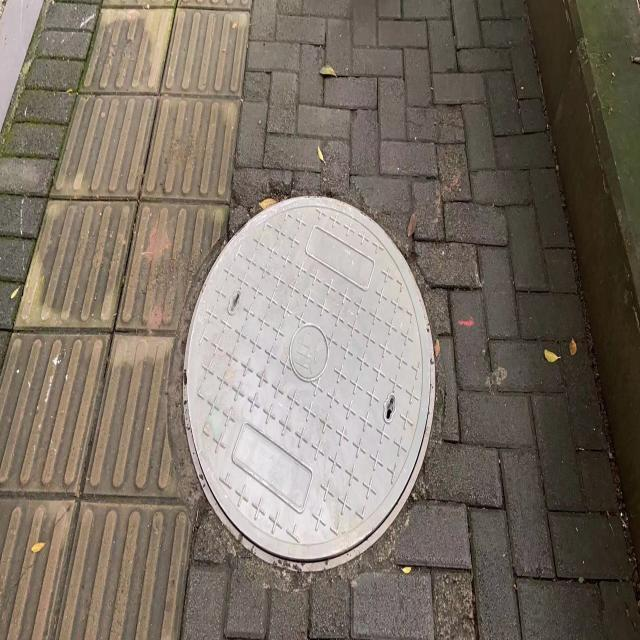manhole: (185, 196, 435, 571)
